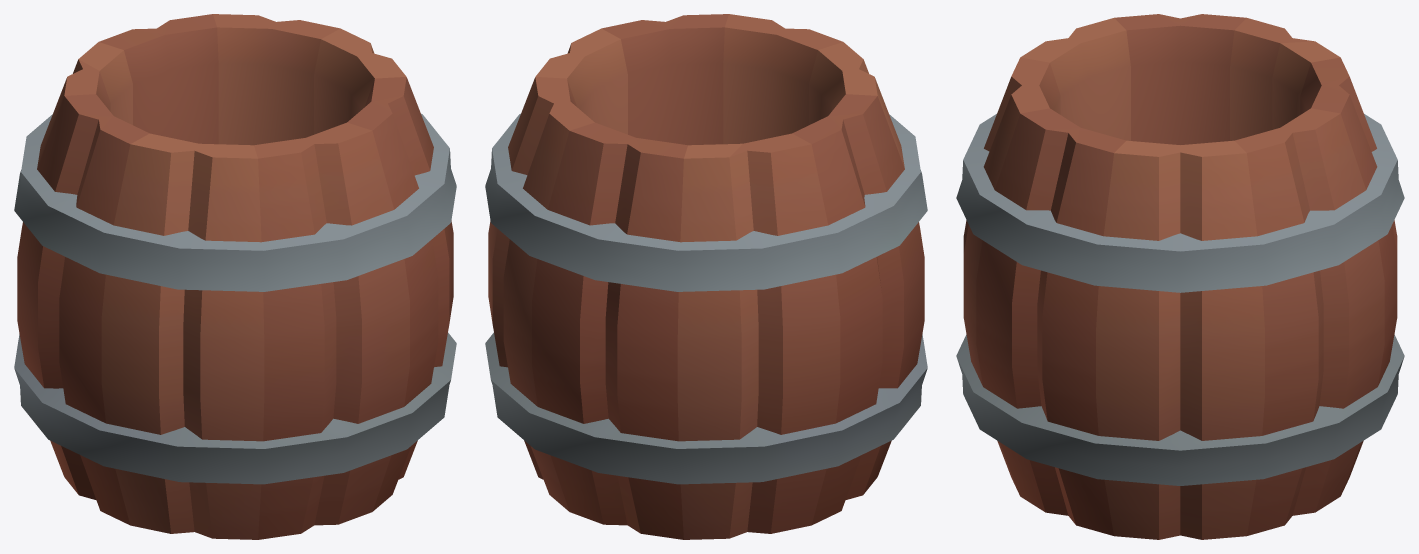
Rendered from food_barrel_empty.glb.
3 renders of one model, left to right at view 1: azimuth 30°, elevation 25°; view 2: azimuth 150°, elevation 25°; view 3: azimuth 270°, elevation 25°, orthographic.
Parts seen in each view (by area): view 1: Food_Barrel_Empty; view 2: Food_Barrel_Empty; view 3: Food_Barrel_Empty.
Boxes of the visible parts, x1,y1,x2,y2 form: Food_Barrel_Empty: (14, 14, 456, 539); Food_Barrel_Empty: (485, 14, 927, 539); Food_Barrel_Empty: (956, 14, 1404, 539).
Size of the model in its own units: 1.25 by 1.18 by 1.25.
1 material, 1 textured.
